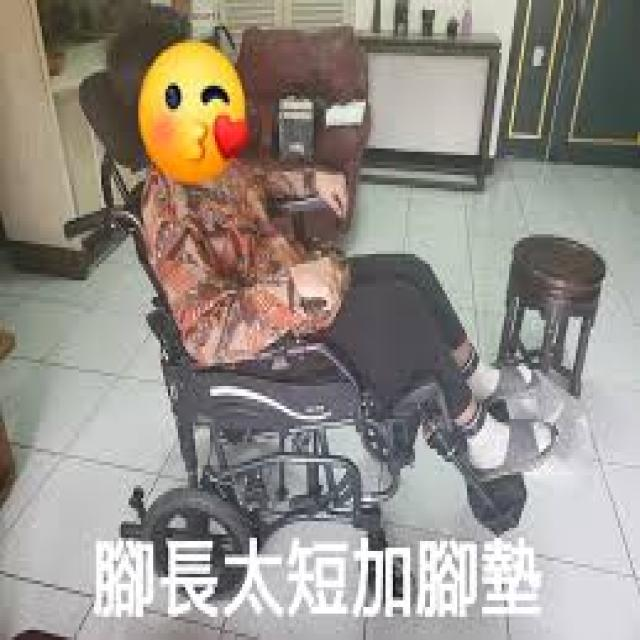wheelchairs: (69, 162, 541, 577)
